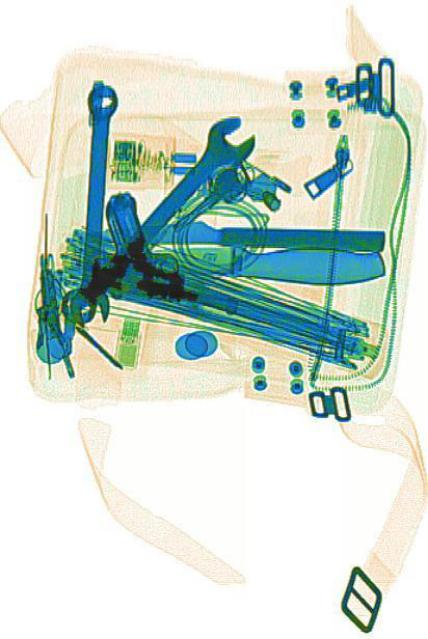Gun: (93, 186, 243, 321)
Knife: (124, 239, 381, 287), (100, 218, 380, 250)
Wrench: (47, 99, 257, 342), (66, 81, 121, 326)
